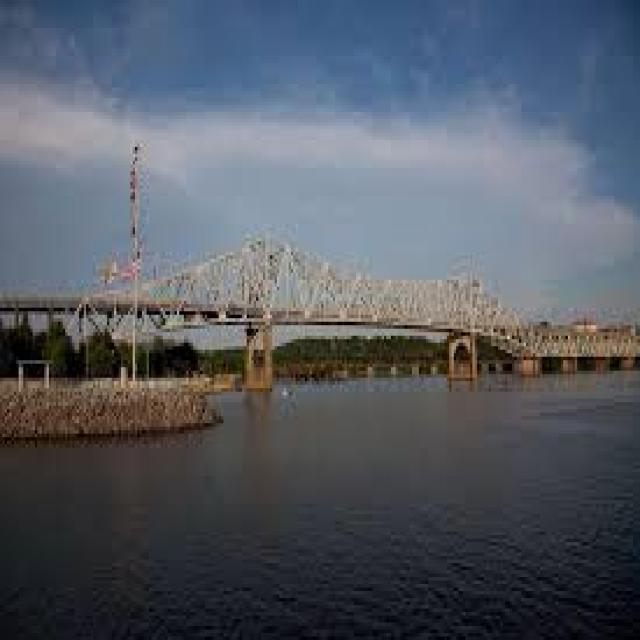Bridges: (11, 141, 636, 476)
